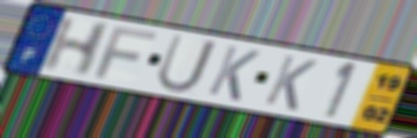1: (322, 60, 361, 123)
F: (92, 25, 160, 81)
H: (37, 15, 115, 78)
K: (204, 43, 264, 104), (261, 53, 321, 113)
U: (153, 32, 220, 95)
